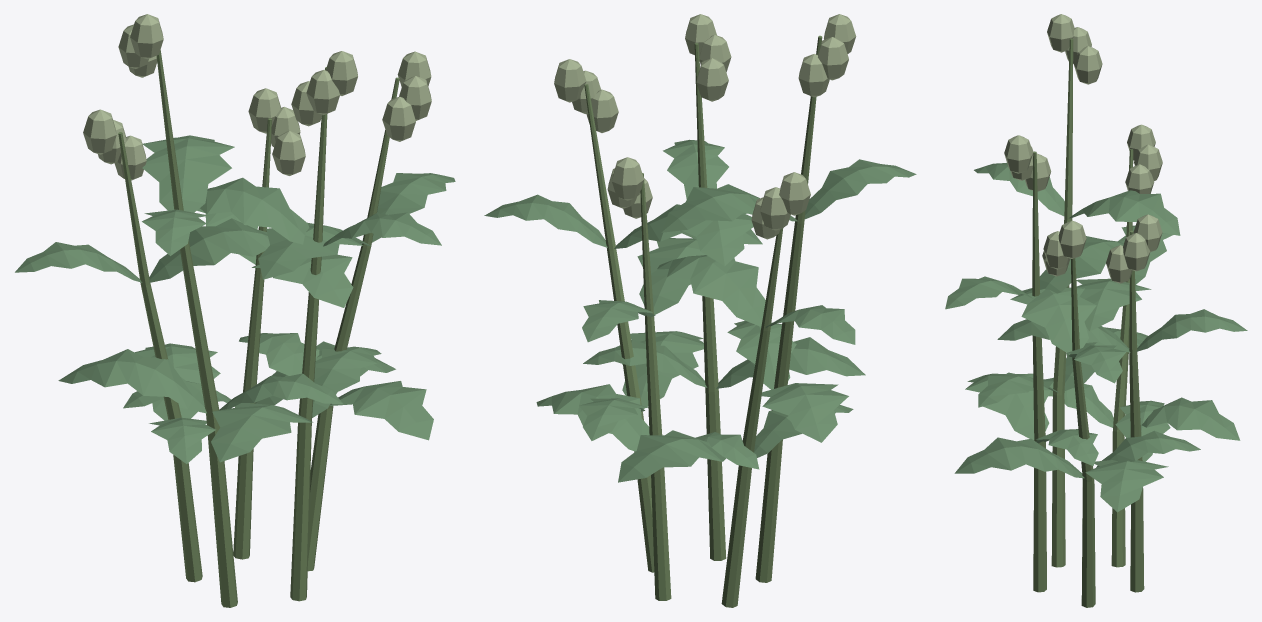
The model's file is roadside-mugwort.glb.
The picture shows the model from 3 angles, left to right: view 1: azimuth 30°, elevation 25°; view 2: azimuth 150°, elevation 25°; view 3: azimuth 270°, elevation 25°; orthographic projection. The views are drawn at different scales.
Visible parts, largest first — view 1: roadside-mugwort; view 2: roadside-mugwort; view 3: roadside-mugwort.
Part boxes in pixels (x1,y1,x2,y2): roadside-mugwort: (15, 14, 455, 607); roadside-mugwort: (484, 14, 916, 607); roadside-mugwort: (945, 14, 1247, 607).
Size of the model in its own units: 0.2862 by 0.4037 by 0.2136.
